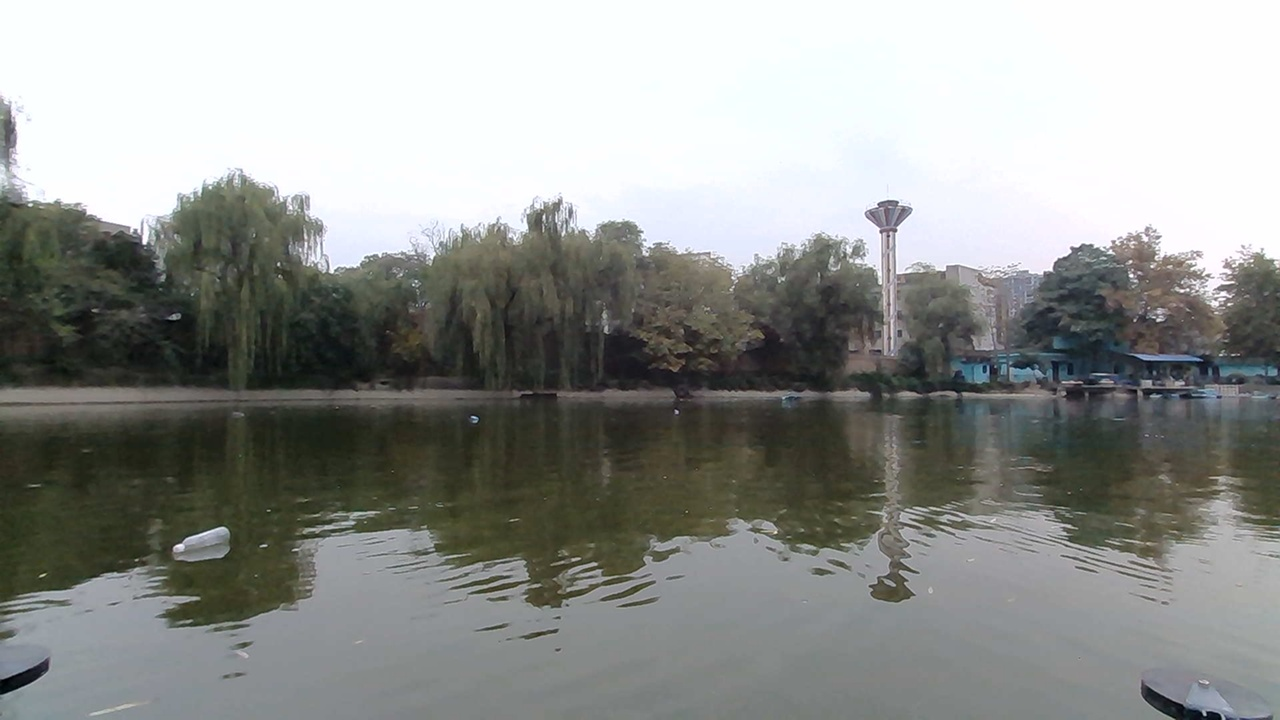bottle: (177, 529, 236, 558), (451, 408, 482, 426)
